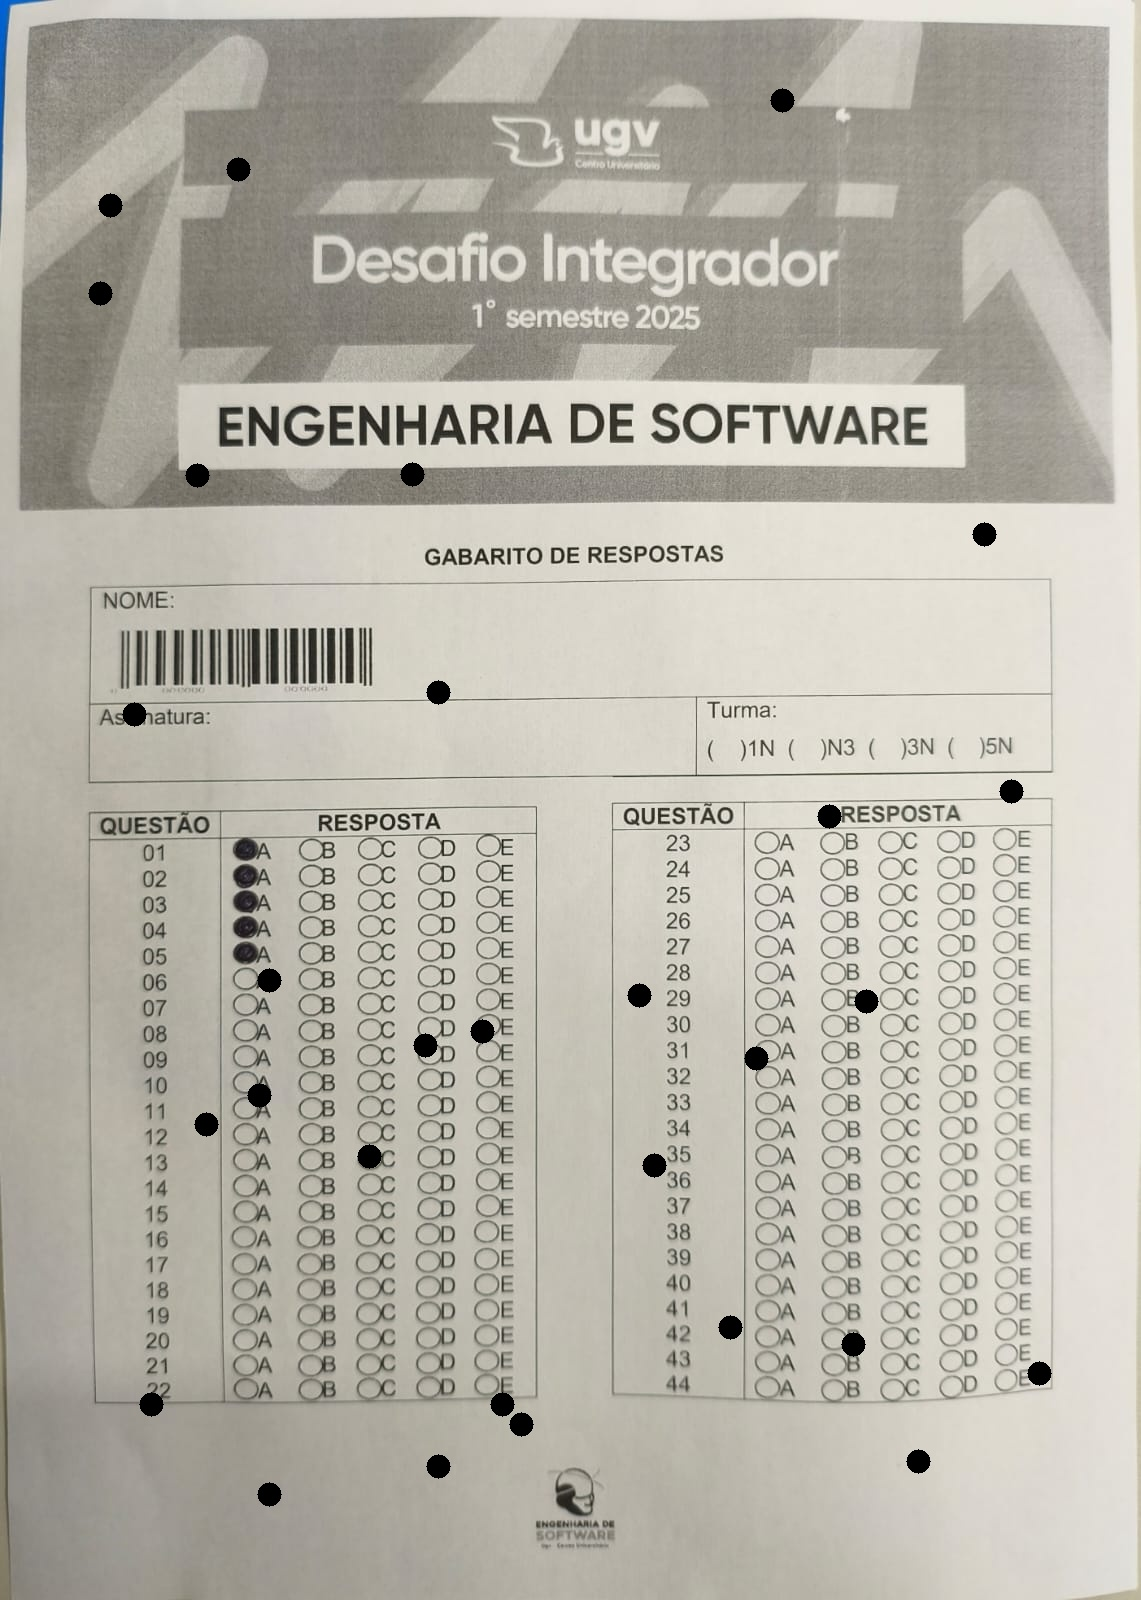bolinha: (98, 188, 122, 222), (717, 1310, 742, 1344), (357, 1140, 382, 1173), (972, 517, 997, 551), (257, 963, 282, 996), (194, 1107, 219, 1141), (509, 1407, 533, 1441), (412, 1028, 437, 1062), (257, 1478, 282, 1511), (88, 277, 112, 310), (627, 978, 651, 1012), (771, 83, 794, 117), (400, 457, 424, 491), (1027, 1356, 1051, 1390), (247, 1078, 270, 1112), (817, 799, 841, 833), (226, 152, 249, 186), (745, 1041, 768, 1075), (470, 1014, 494, 1048), (642, 1148, 666, 1181), (185, 458, 209, 491), (490, 1388, 514, 1421), (140, 1388, 163, 1421), (999, 774, 1022, 807), (122, 698, 146, 731), (426, 1449, 449, 1483), (841, 1327, 864, 1360), (906, 1444, 930, 1478), (426, 675, 449, 709), (855, 984, 878, 1017)
